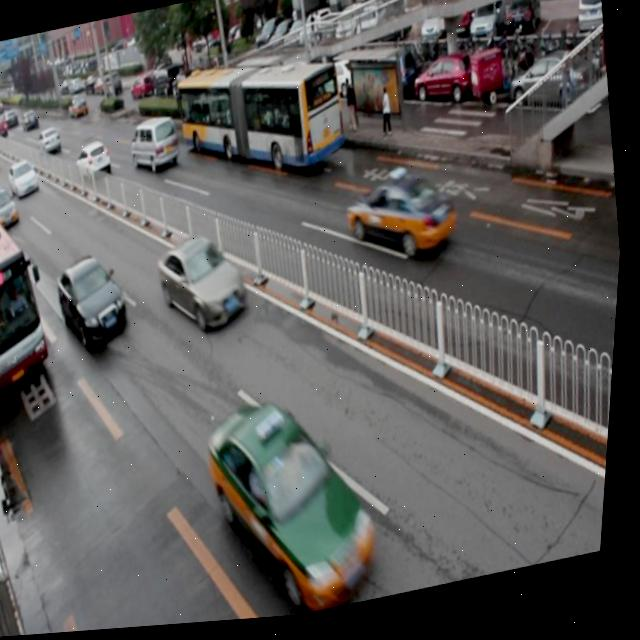car: (201, 389, 397, 626), (343, 166, 464, 272), (154, 231, 259, 344), (55, 253, 139, 353), (8, 157, 45, 201), (76, 141, 116, 180), (0, 182, 26, 232)
truck: (127, 114, 184, 179)
van: (171, 42, 355, 198), (0, 190, 66, 398)
